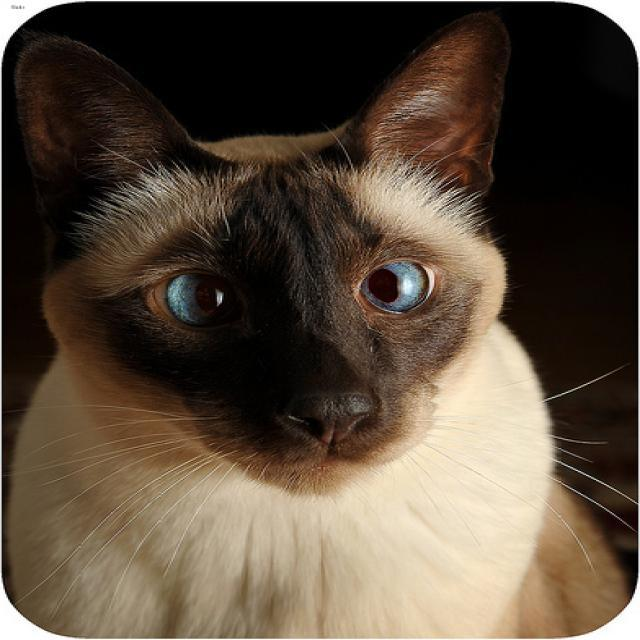Siamese: (10, 15, 506, 504)
